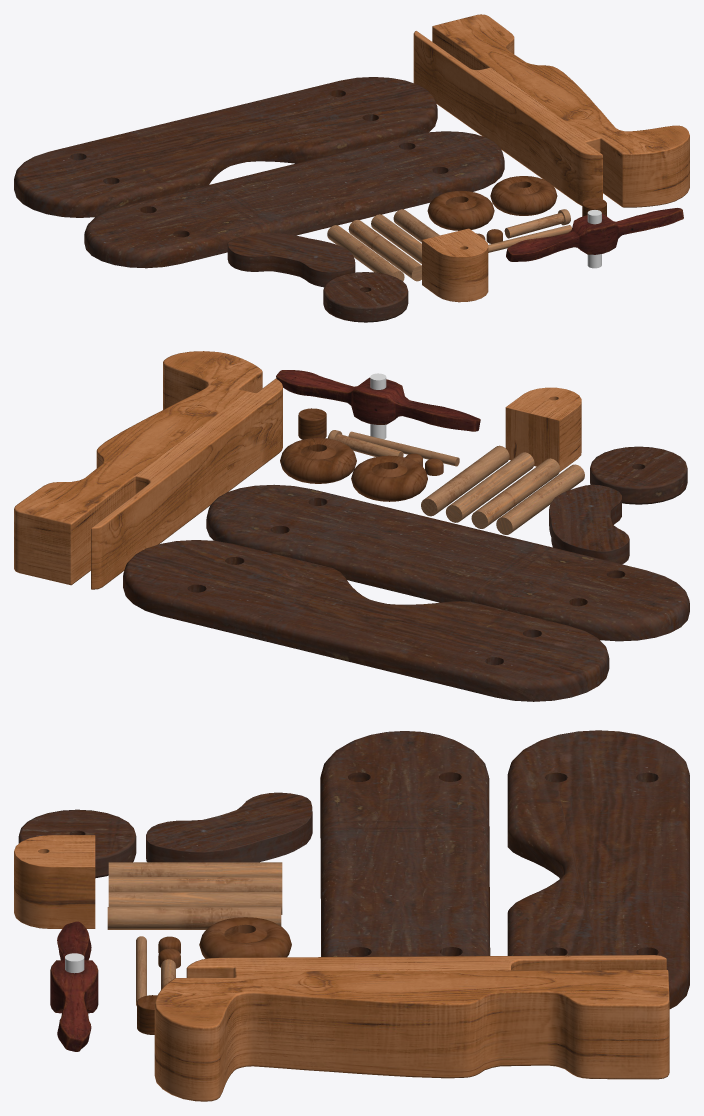
The model's file is airplane.fbx.
The picture shows the model from 3 angles, top to bottom: view 1: azimuth 30°, elevation 25°; view 2: azimuth 150°, elevation 25°; view 3: azimuth 270°, elevation 25°; orthographic projection. The views are drawn at different scales.
Parts seen in each view (by area): view 1: Circle.019, Base, Base.002, Plane.005, Cube.034, Cube.033, Circle.021, Cylinder.023, Cylinder.014, Cylinder.022, Cylinder.025, Cylinder.026 (+3 smaller); view 2: Circle.019, Base, Base.002, Cube.034, Plane.005, Cube.033, Circle.021, Cylinder.023, Cylinder.014, Cylinder.022, Cylinder.026, Cylinder.024 (+4 smaller); view 3: Base.002, Circle.019, Base, Plane.005, Cube.034, Cube.033, Circle.021, Cylinder.024, Cylinder.014, Cylinder.026, Cylinder.025, Cylinder.022 (+2 smaller).
Part boxes in pixels (<box>): Circle.019: <box>14,77,437,217</box>; Base: <box>84,131,504,268</box>; Base.002: <box>413,14,689,207</box>; Plane.005: <box>227,232,355,287</box>; Cube.034: <box>422,228,488,302</box>; Cube.033: <box>506,208,683,261</box>; Circle.021: <box>323,272,408,322</box>; Cylinder.023: <box>490,176,557,215</box>; Cylinder.014: <box>427,191,494,230</box>; Cylinder.022: <box>348,220,421,281</box>; Cylinder.025: <box>327,225,404,281</box>; Cylinder.026: <box>371,214,421,263</box>; Circle.019: <box>123,540,609,701</box>; Base: <box>206,484,689,641</box>; Base.002: <box>14,351,282,589</box>; Cube.034: <box>505,387,581,471</box>; Plane.005: <box>549,484,629,564</box>; Cube.033: <box>276,370,480,431</box>; Circle.021: <box>590,446,687,504</box>; Cylinder.023: <box>280,438,356,483</box>; Cylinder.014: <box>351,455,427,501</box>; Cylinder.022: <box>471,458,560,528</box>; Cylinder.026: <box>446,452,534,522</box>; Cylinder.024: <box>421,445,509,516</box>; Base.002: <box>154,955,669,1101</box>; Circle.019: <box>507,730,689,1008</box>; Base: <box>320,731,490,956</box>; Plane.005: <box>146,792,312,862</box>; Cube.034: <box>14,835,95,928</box>; Cube.033: <box>50,921,98,1051</box>; Circle.021: <box>18,809,136,878</box>; Cylinder.024: <box>107,907,281,929</box>; Cylinder.014: <box>199,917,291,958</box>; Cylinder.026: <box>108,892,282,914</box>; Cylinder.025: <box>108,862,282,876</box>; Cylinder.022: <box>108,877,282,891</box>.
Size of the model in its own units: 32.58 by 4.14 by 26.47.
Materials: 1 (1 with a texture image).
